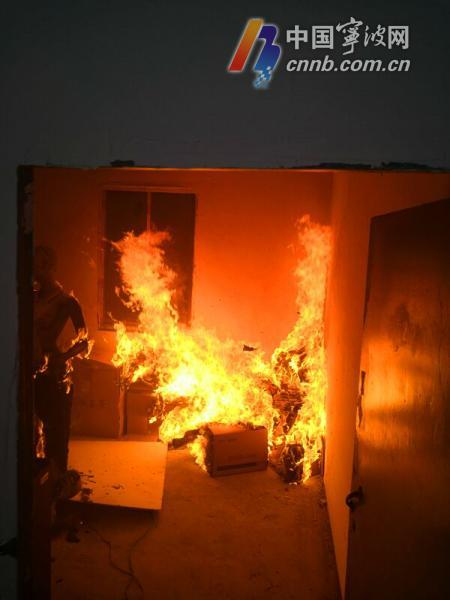fire: (112, 209, 333, 474)
